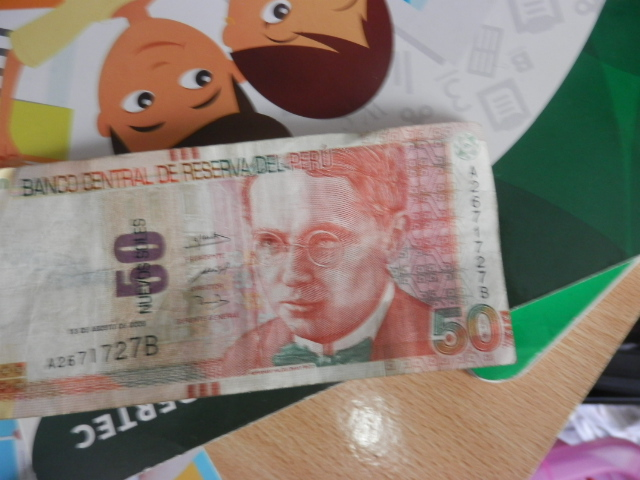B50: (1, 148, 518, 409)
